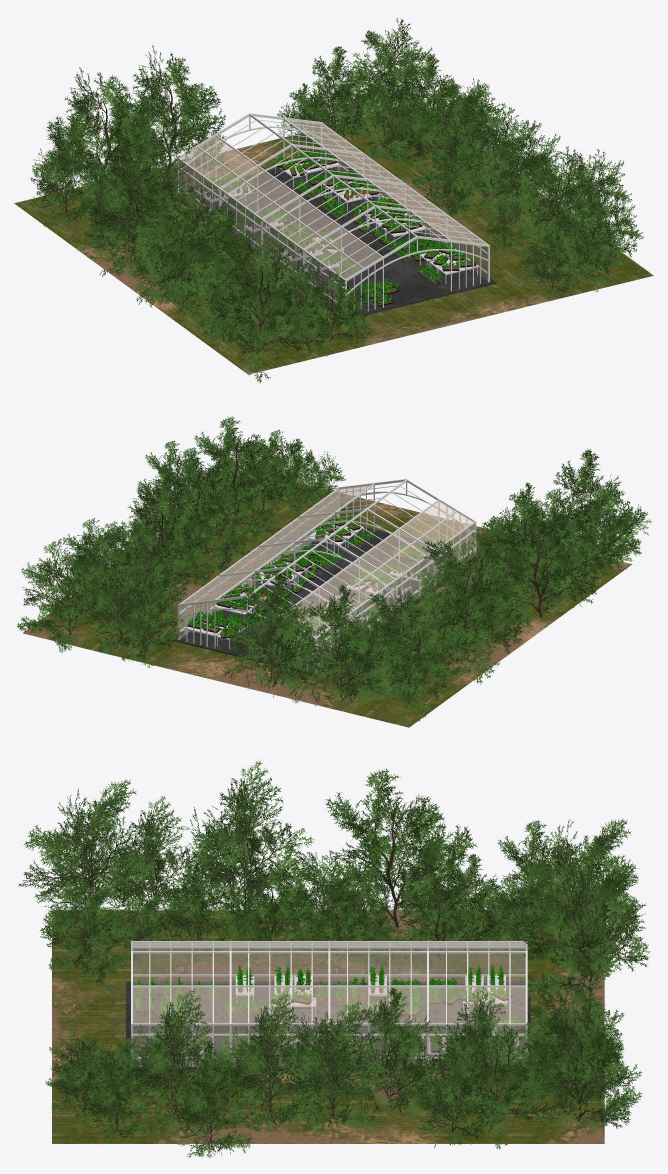
The model's file is greenhouse.glb.
3 renders of one model, top to bottom at view 1: azimuth 30°, elevation 25°; view 2: azimuth 150°, elevation 25°; view 3: azimuth 270°, elevation 25°, orthographic. The views are drawn at different scales.
Parts seen in each view (by area): view 1: Ground, GreenHouseStructure, Floor, Bush, Bush.012, Bush.003, Bush.014, Bush.011, Bush.017, Bush.019, Bush.021, Bush.023 (+26 smaller); view 2: Ground, GreenHouseStructure, Bush.012, Bush.003, Bush.014, Bush.011, Floor, Bush.015, Bush, Bush.021, Bush.017, Bush.008 (+27 smaller); view 3: Ground, GreenHouseStructure, Bush.012, Bush.014, Bush, Bush.003, Floor, Bush.015, Bush.019, Bush.020, Bush.011, Bush.017 (+29 smaller).
Boxes of the visible parts, <box> form: Ground: <box>14,105,653,374</box>; GreenHouseStructure: <box>177,113,489,316</box>; Floor: <box>177,166,496,319</box>; Bush: <box>201,234,328,383</box>; Bush.012: <box>76,120,195,276</box>; Bush.003: <box>128,185,246,323</box>; Bush.014: <box>108,45,228,181</box>; Bush.011: <box>44,67,169,204</box>; Bush.017: <box>513,146,611,258</box>; Bush.019: <box>475,119,568,231</box>; Bush.021: <box>400,83,498,200</box>; Bush.023: <box>356,74,435,170</box>; Ground: <box>23,473,631,727</box>; GreenHouseStructure: <box>177,479,476,672</box>; Bush.012: <box>413,533,532,684</box>; Bush.003: <box>481,495,599,633</box>; Bush.014: <box>220,571,324,703</box>; Bush.011: <box>287,584,391,706</box>; Floor: <box>172,527,481,675</box>; Bush.015: <box>17,538,113,652</box>; Bush: <box>534,449,651,571</box>; Bush.021: <box>112,481,214,589</box>; Bush.017: <box>193,416,289,523</box>; Bush.008: <box>375,621,453,721</box>; Ground: <box>52,910,604,1143</box>; GreenHouseStructure: <box>131,940,527,1067</box>; Bush.012: <box>314,768,477,940</box>; Bush.014: <box>516,857,650,1018</box>; Bush: <box>18,778,147,945</box>; Bush.003: <box>181,759,317,937</box>; Floor: <box>126,981,530,1070</box>; Bush.015: <box>518,992,641,1135</box>; Bush.019: <box>219,993,324,1133</box>; Bush.020: <box>284,1001,385,1134</box>; Bush.011: <box>507,818,642,980</box>; Bush.017: <box>123,988,229,1133</box>.
Size of the model in its own units: 53.74 by 16.09 by 51.86.
6 materials, 5 textured.
